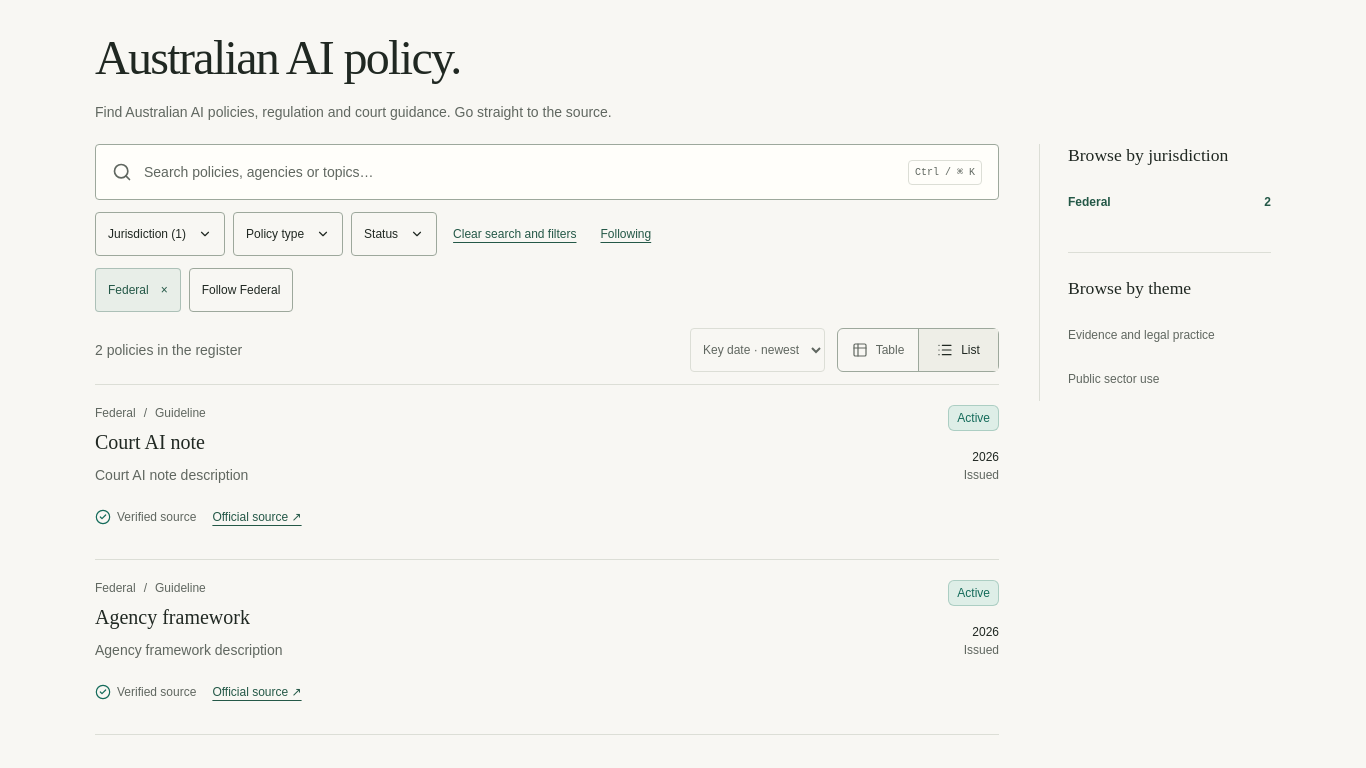
it: Homepage discovery › filters the register from a theme link and keeps the links on a shared jurisdiction URL
The width and height of the screenshot is (1366, 768).
Click the link "Evidence and legal practice": x=1141, y=334 x1=1068 y1=328 x2=1215 y2=342
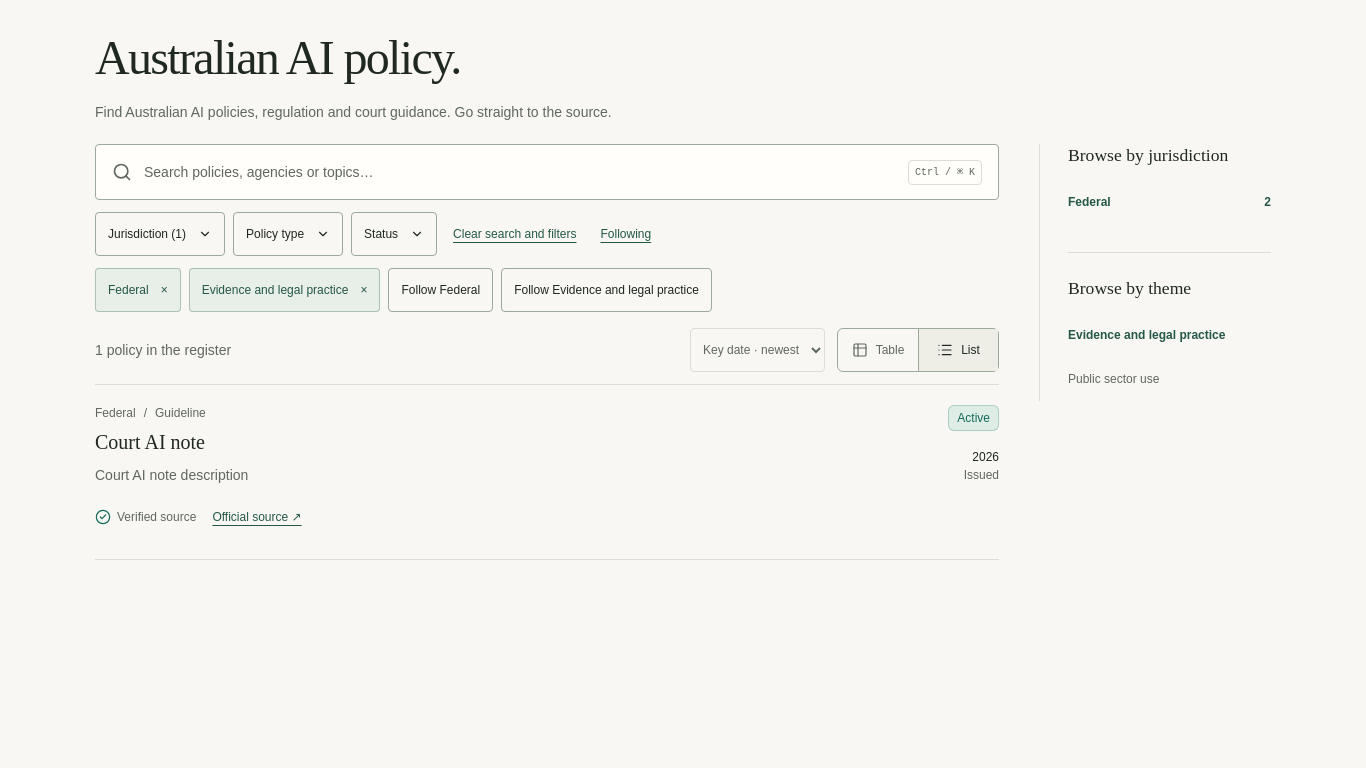
Expected: the message shows "1 policy", x1=95 y1=340 x2=231 y2=360
Expected: the link "Agency framework" is gone
Click the link "Public sector use": x=1114, y=378 x1=1068 y1=372 x2=1159 y2=386
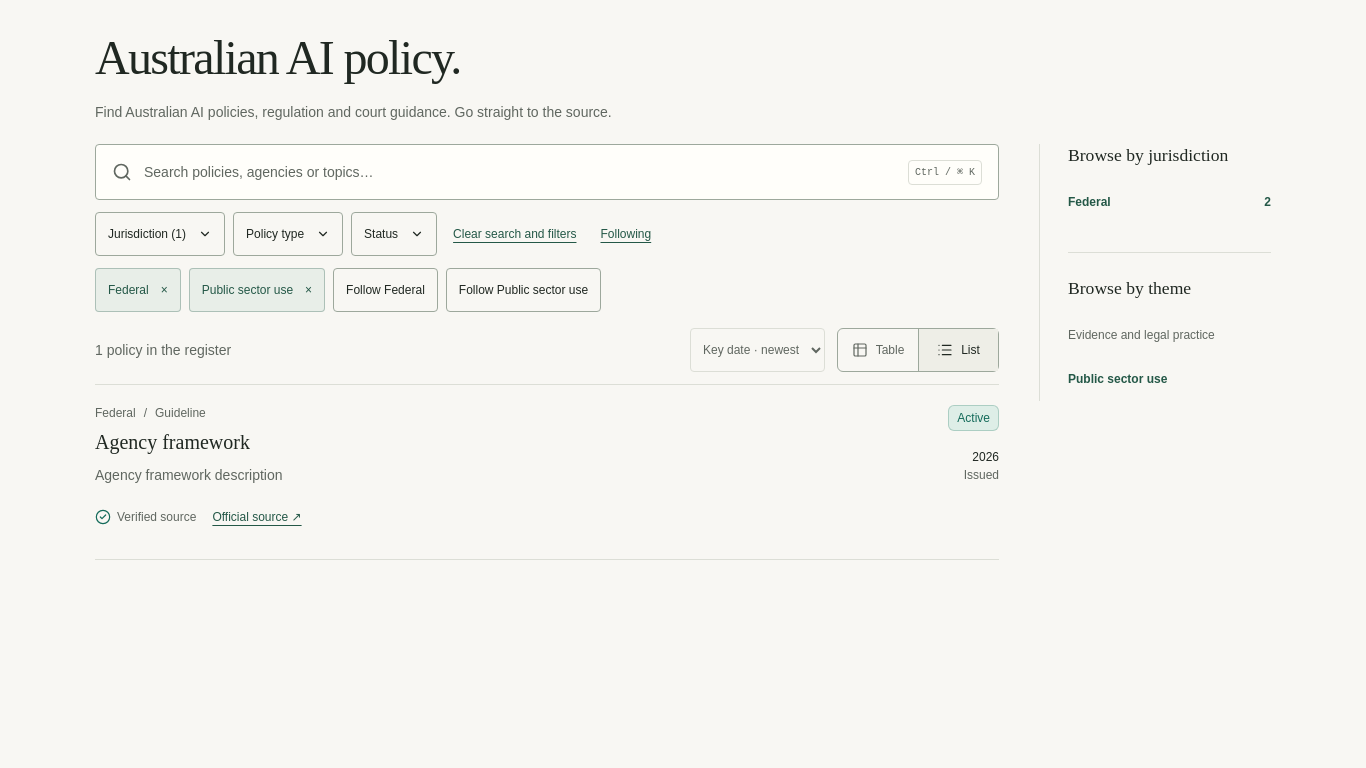
Expected: the message shows "1 policy", x1=95 y1=340 x2=231 y2=360
Expected: the link "Court AI note" is gone
